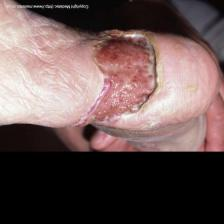Wound: (80, 30, 160, 126)
